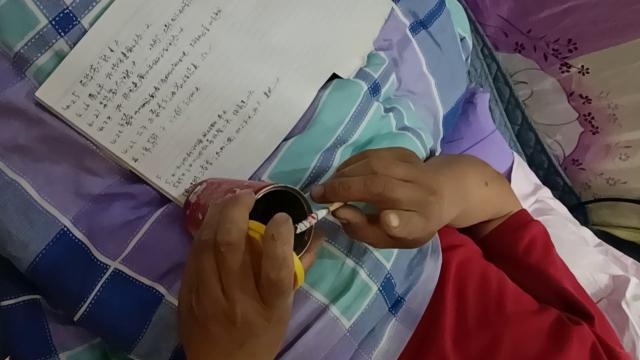Smoking: (296, 200, 348, 234)
